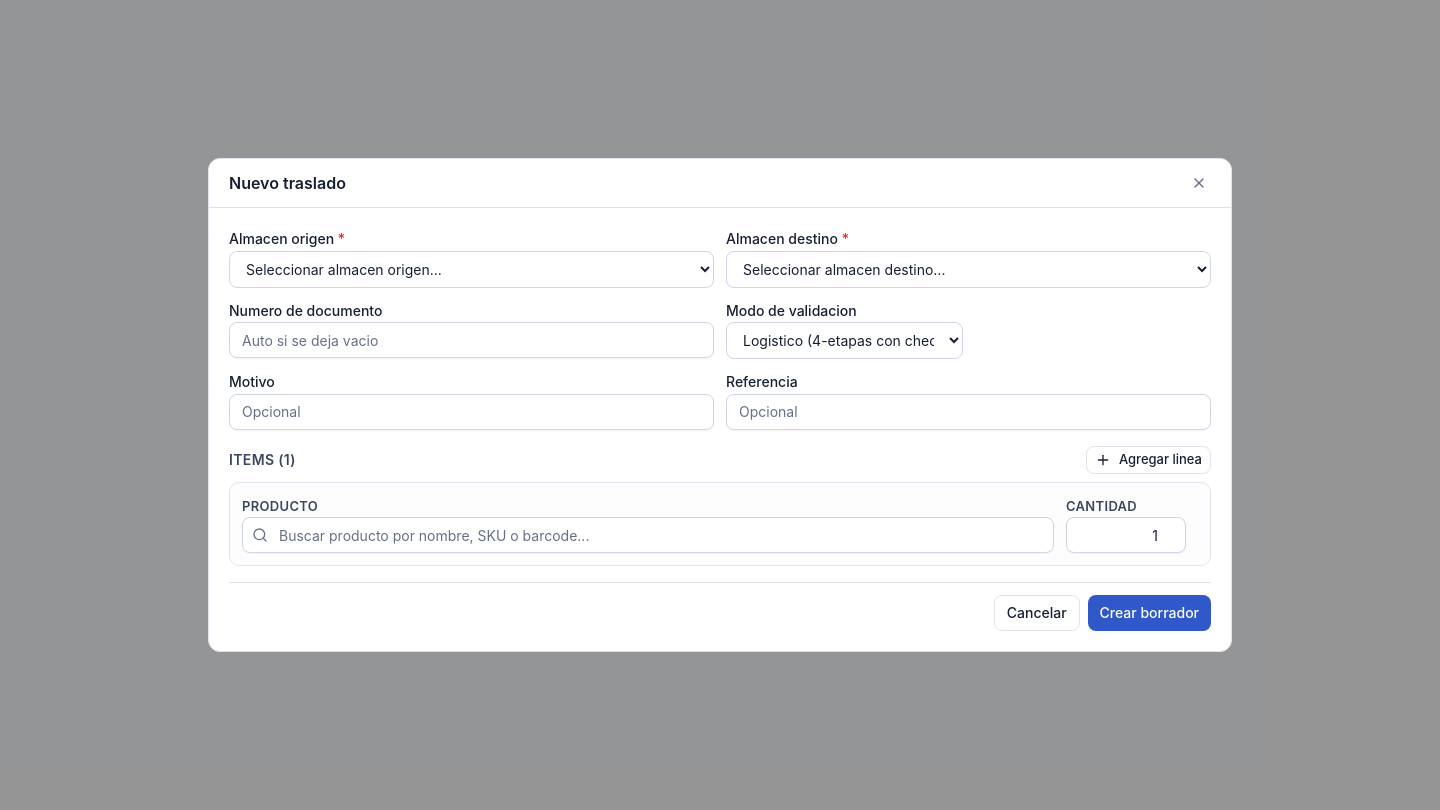
Test: TransferCreateDialog › bloquea submit si falta almacen origen
Select "WH-2 — Almacen 2" in the dropdown labelled "Almacen destino *": (968, 269) [726,251,1211,288]
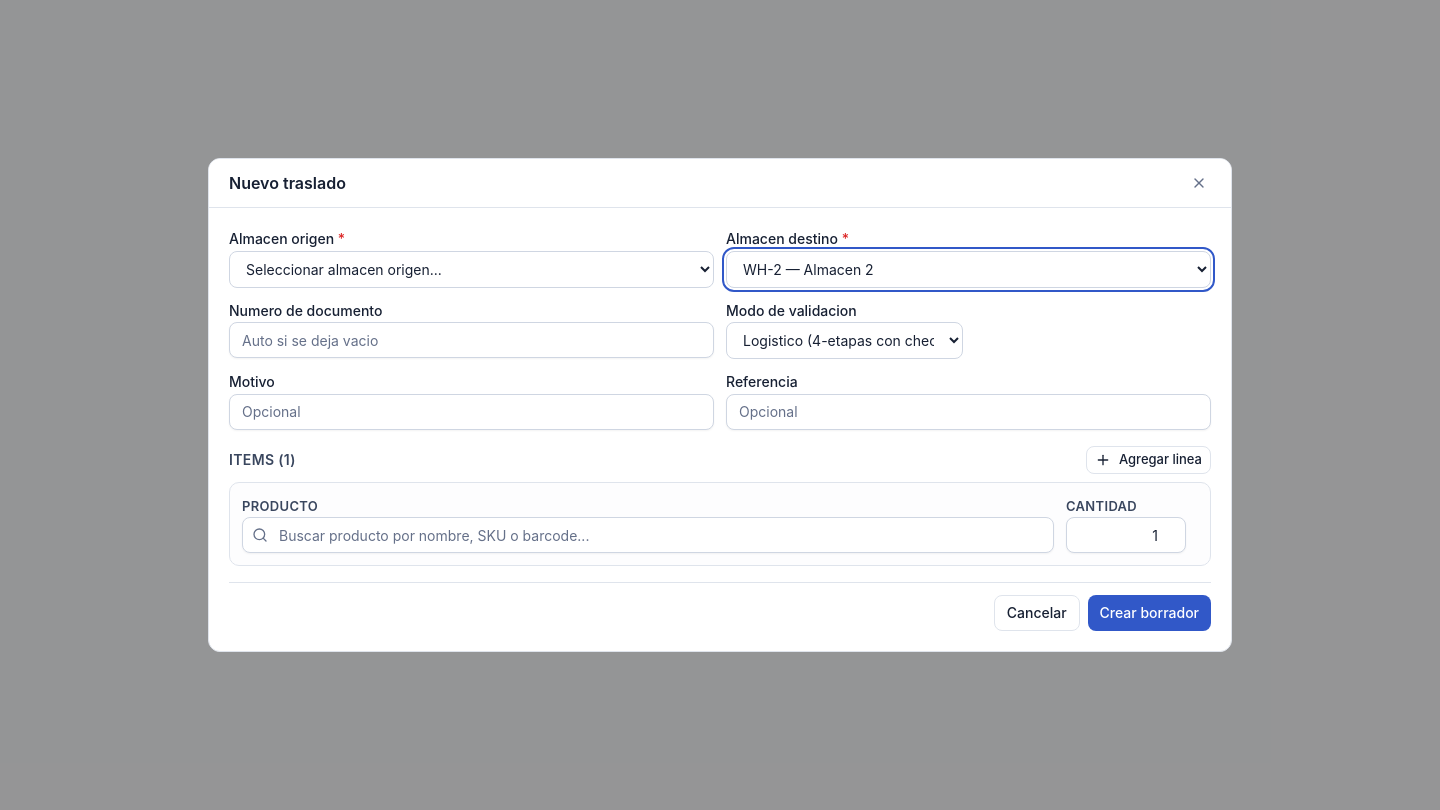
In the field named "Buscar producto de la linea 1": (648, 535) [242,517,1054,553], type "PRODUCTO A"
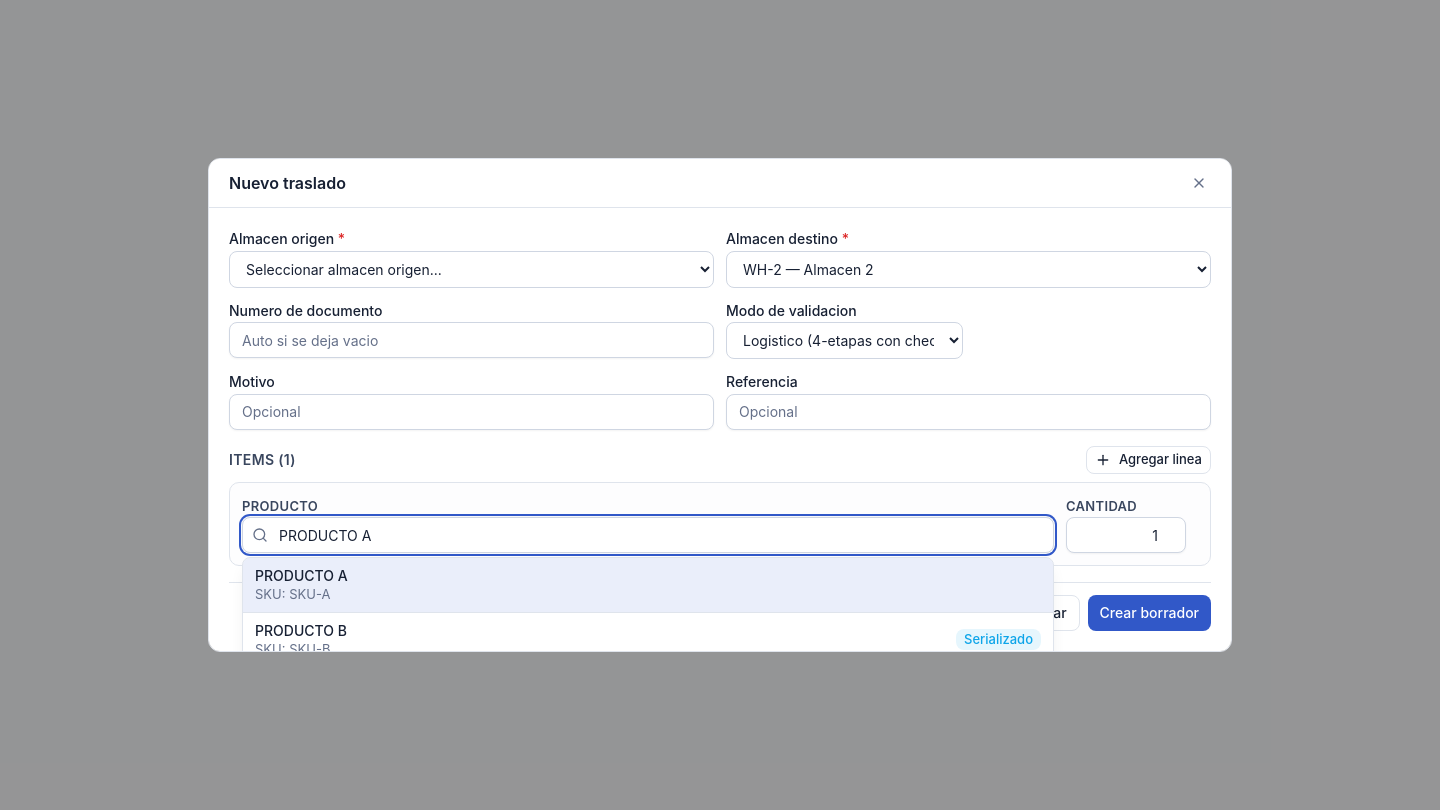
Click the option "PRODUCTO A SKU: SKU-A": (301, 576) [243,558,1053,613]
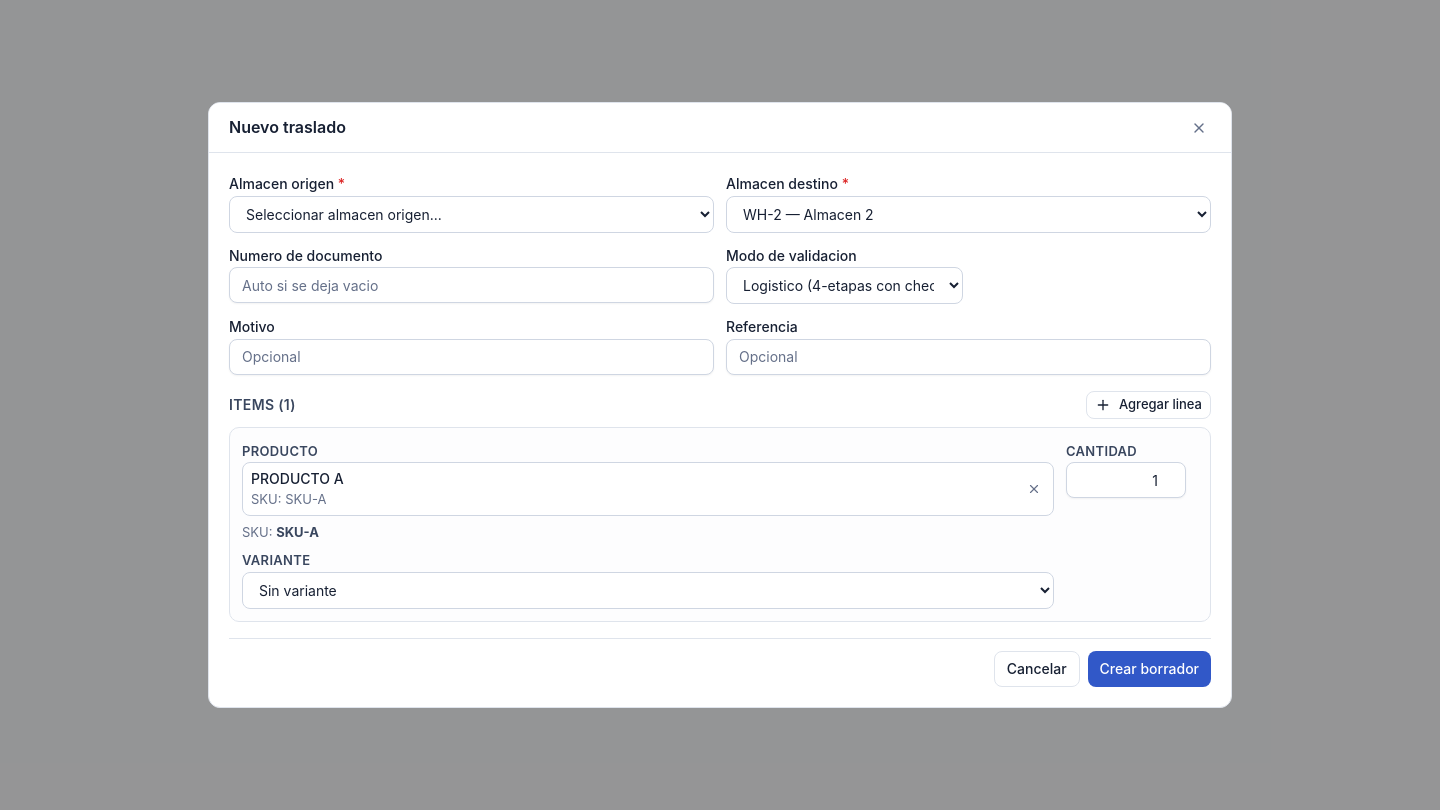
Click the button "Crear borrador": (1149, 668) [1088,650,1211,686]
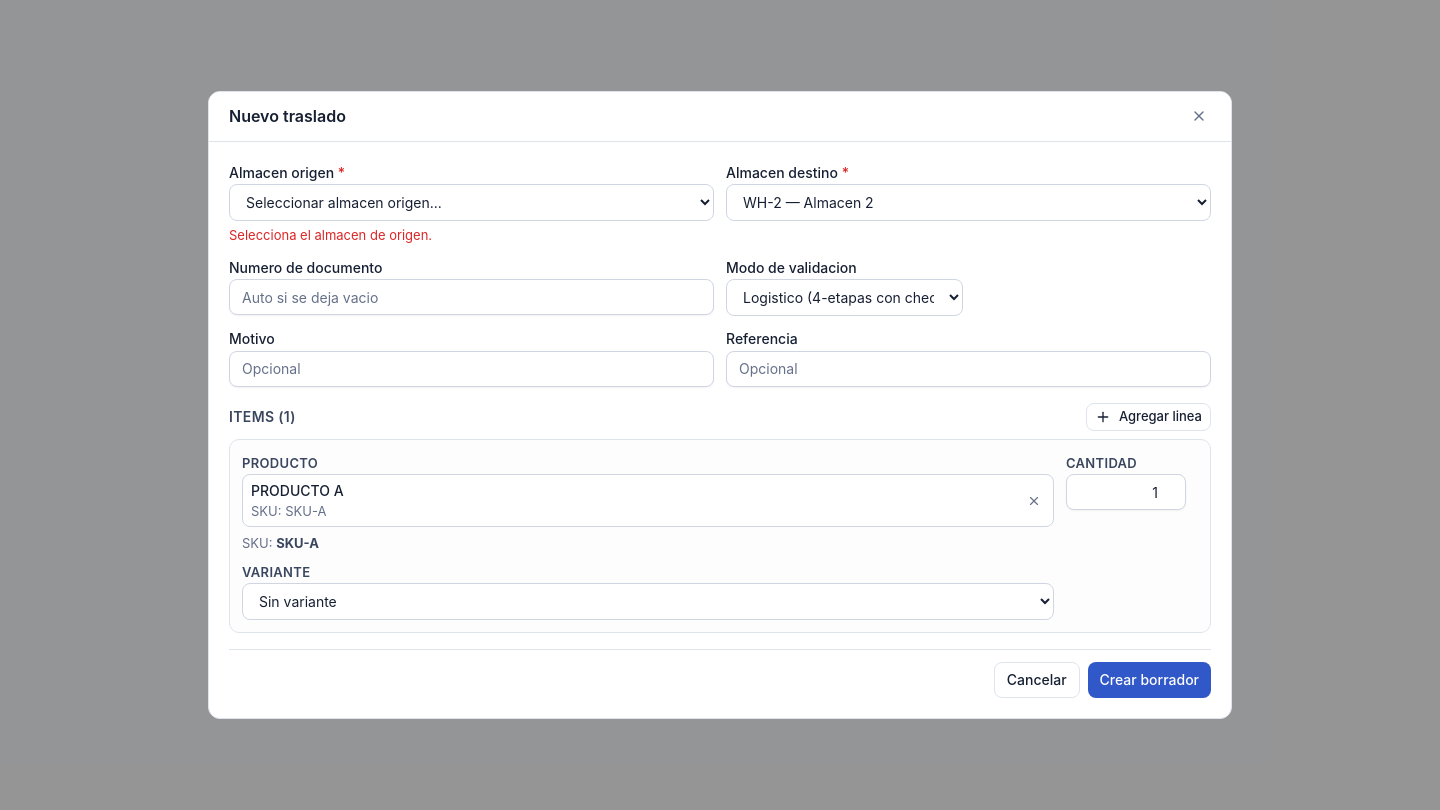
Now the text "Selecciona el almacen de origen." is shown, box [229,227,432,243]
